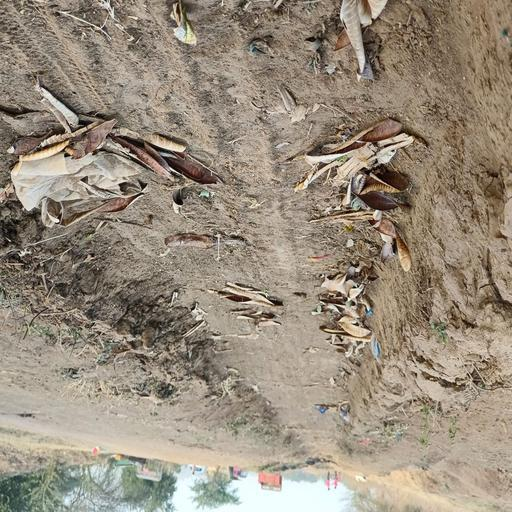vehicle_track: (0, 0, 344, 461)
